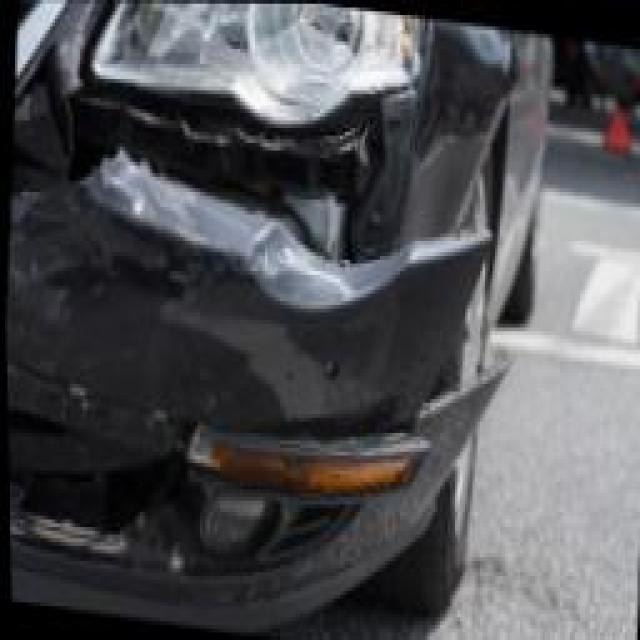Bumper: (2, 117, 613, 640)
Fender: (420, 19, 518, 230)
Light: (85, 0, 432, 127)
